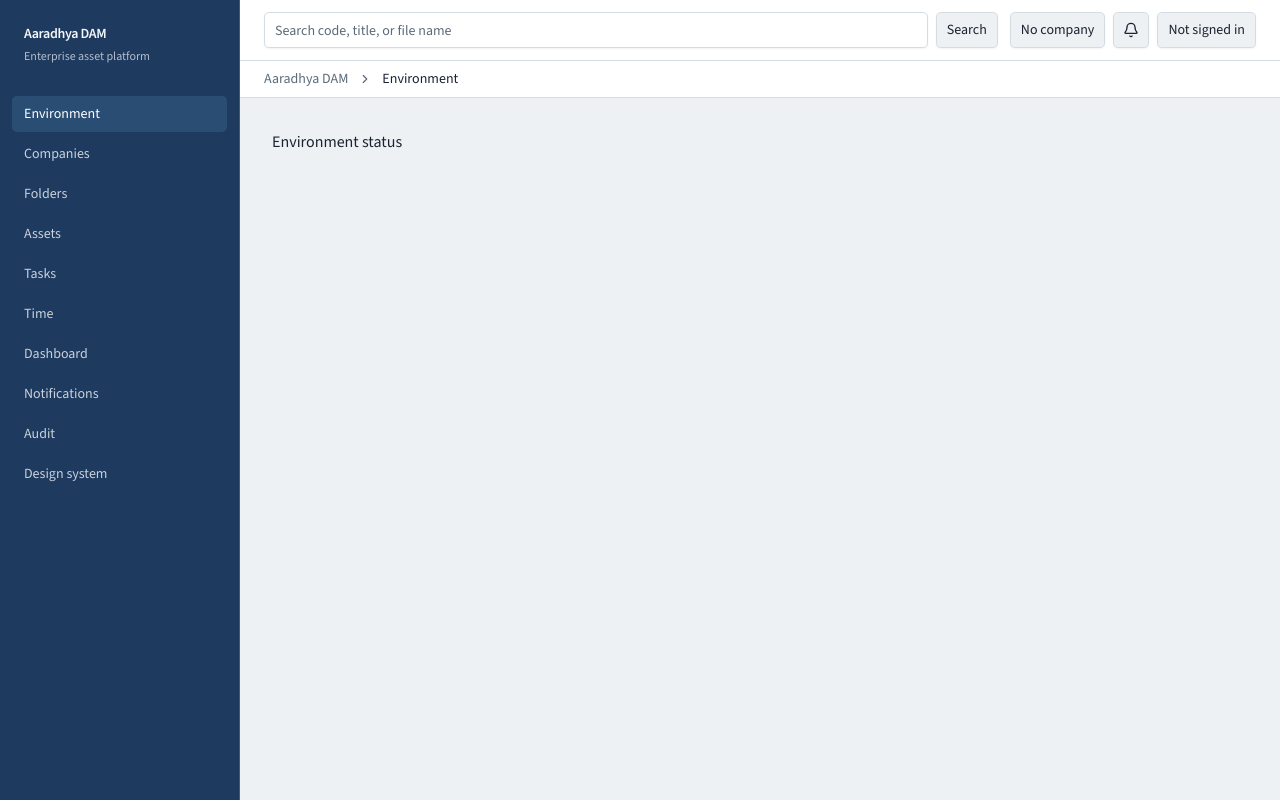
Scenario: AppShell › asks a signed-out person to sign in before listing companies
Press the mouse on the button "No company" at (1058, 30), box x1=1010 y1=12 x2=1105 y2=48
Click the button "No company".
click(1058, 30)  # box x1=1010 y1=12 x2=1105 y2=48
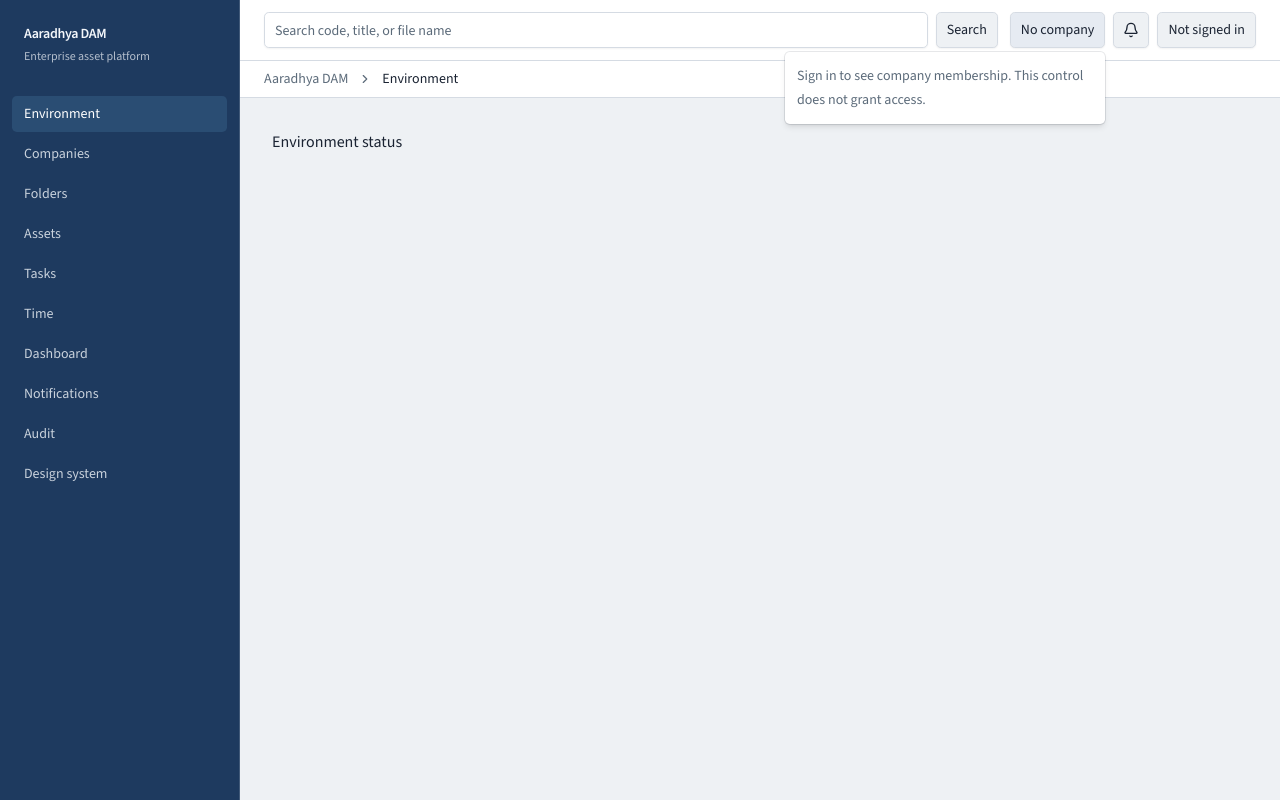
Expected: the text "does not grant access" is shown, x1=797 y1=66 x2=1083 y2=109
